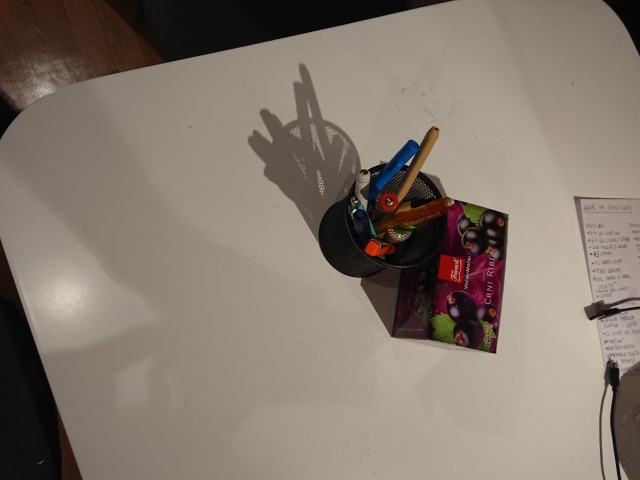Franck Black Currant Tea 60g: (388, 195, 511, 356)
